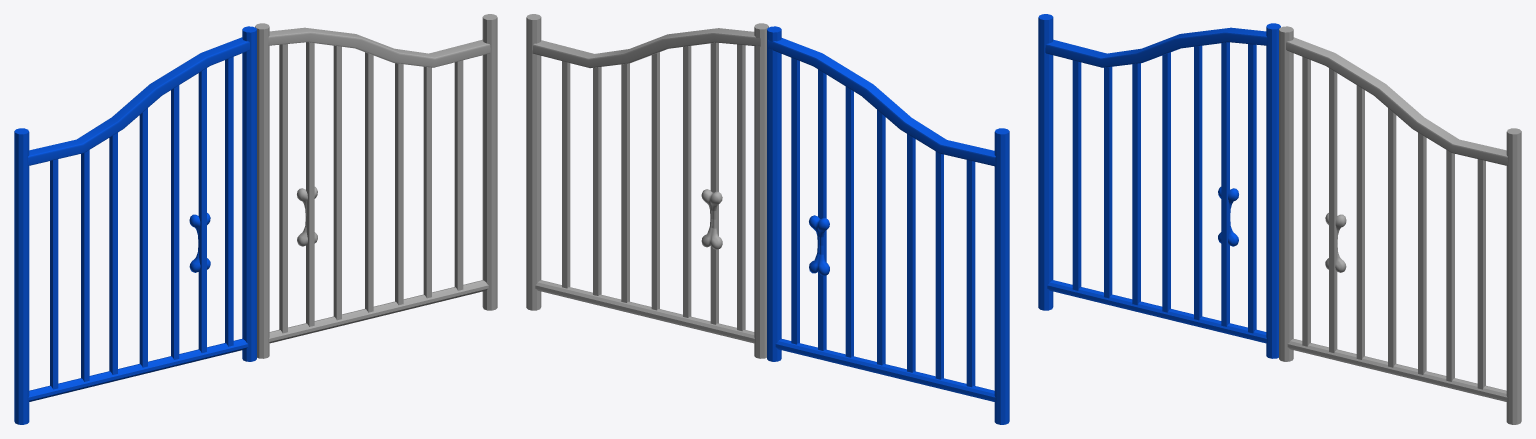
File: FrontGateGates.fbx
The picture shows the model from 3 angles, left to right: view 1: azimuth 30°, elevation 25°; view 2: azimuth 150°, elevation 25°; view 3: azimuth 330°, elevation 25°; orthographic projection.
Visible parts, largest first — view 1: GateDoor2, GateDoor3; view 2: GateDoor2, GateDoor3; view 3: GateDoor3, GateDoor2.
Part boxes in pixels (x1,y1,x2,y2): GateDoor2: (14, 26, 256, 424); GateDoor3: (255, 14, 497, 358); GateDoor2: (767, 26, 1009, 424); GateDoor3: (526, 14, 768, 358); GateDoor3: (1279, 26, 1521, 424); GateDoor2: (1038, 14, 1280, 358).
Bounding box in the file's own units: 5.48 × 3.67 × 0.1744.
